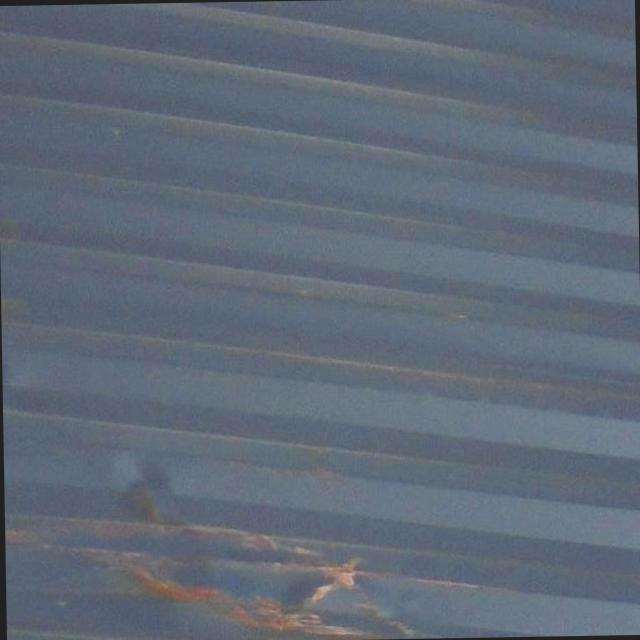rust: (92, 438, 447, 640)
